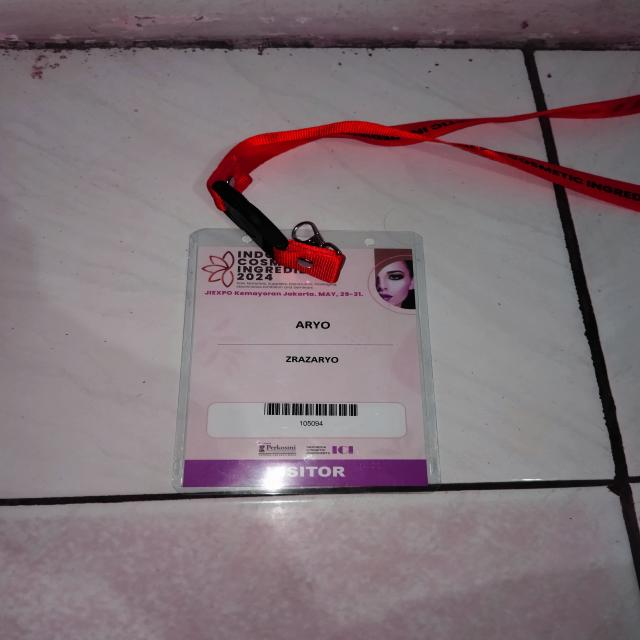ID_card: (172, 228, 434, 494)
